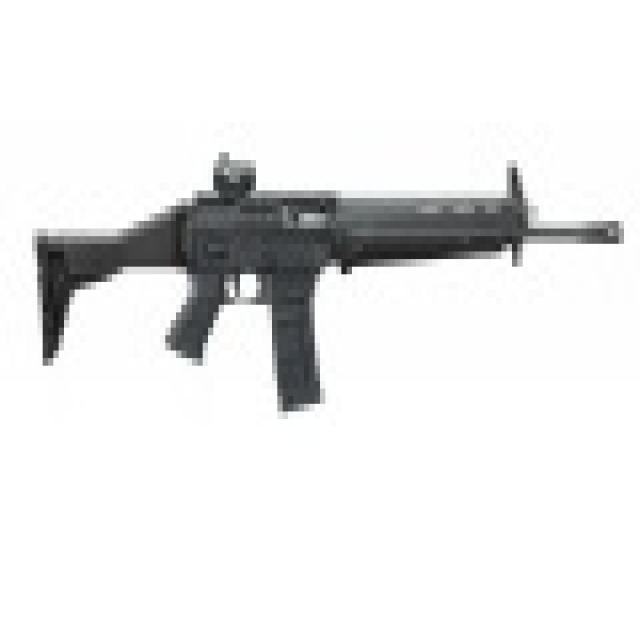Gun: (42, 130, 622, 397)
